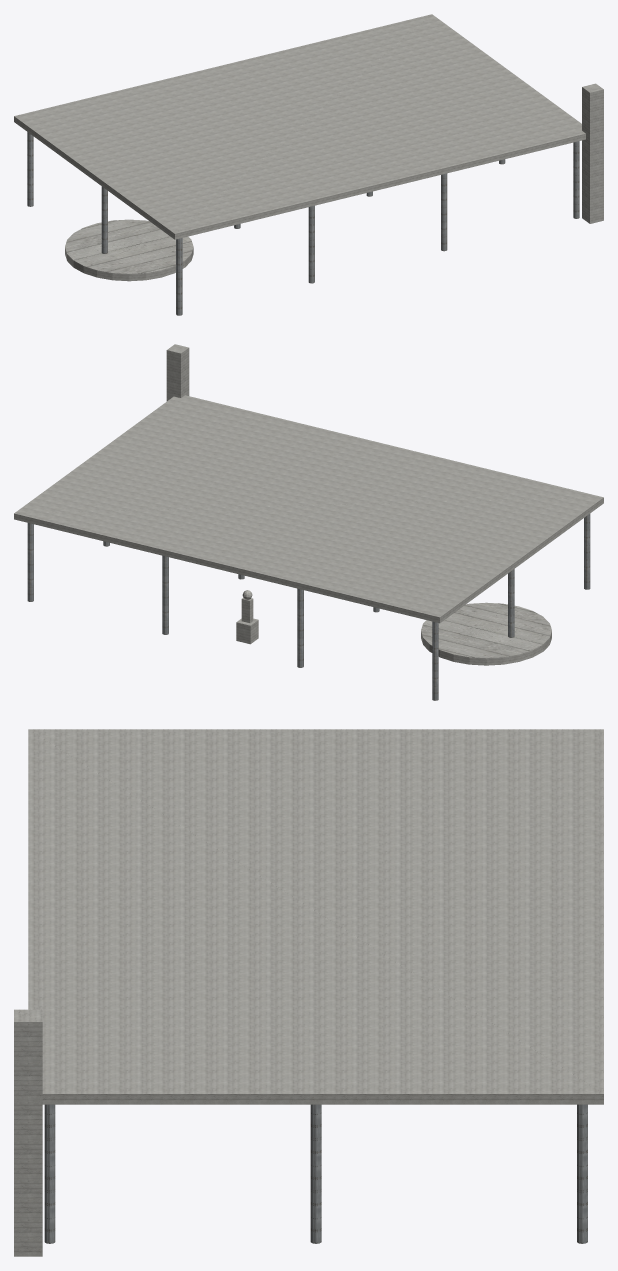
Rendered from founders-plaza_lod0.gltf.
The picture shows the model from 3 angles, top to bottom: view 1: azimuth 30°, elevation 25°; view 2: azimuth 150°, elevation 25°; view 3: azimuth 270°, elevation 25°; orthographic projection. The views are drawn at different scales.
Visible parts, largest first — view 1: founders-plaza_roof, founders-plaza__fountain, founders-plaza_columns, founders-plaza__pylon; view 2: founders-plaza_roof, founders-plaza__fountain, founders-plaza_columns, founders-plaza__pylon, founders-plaza__statue; view 3: founders-plaza_roof, founders-plaza__pylon, founders-plaza_columns.
Boxes of the visible parts, box(x1,y1,x2,y2) form: founders-plaza_roof: box(14, 14, 585, 239); founders-plaza__fountain: box(65, 219, 193, 281); founders-plaza_columns: box(27, 132, 579, 315); founders-plaza__pylon: box(582, 83, 603, 223); founders-plaza_roof: box(14, 395, 603, 623); founders-plaza__fountain: box(421, 602, 551, 665); founders-plaza_columns: box(27, 513, 590, 700); founders-plaza__pylon: box(166, 344, 189, 401); founders-plaza__statue: box(236, 590, 258, 644); founders-plaza_roof: box(28, 729, 603, 1104); founders-plaza__pylon: box(14, 1009, 42, 1256); founders-plaza_columns: box(44, 1104, 587, 1243).
Bounding box in the file's own units: 64 × 18 × 41.
